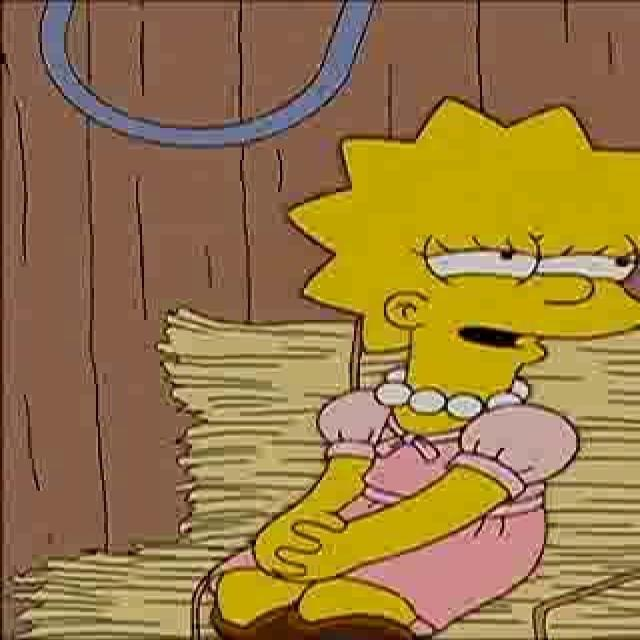Lisa Simpson: (282, 95, 640, 416)
